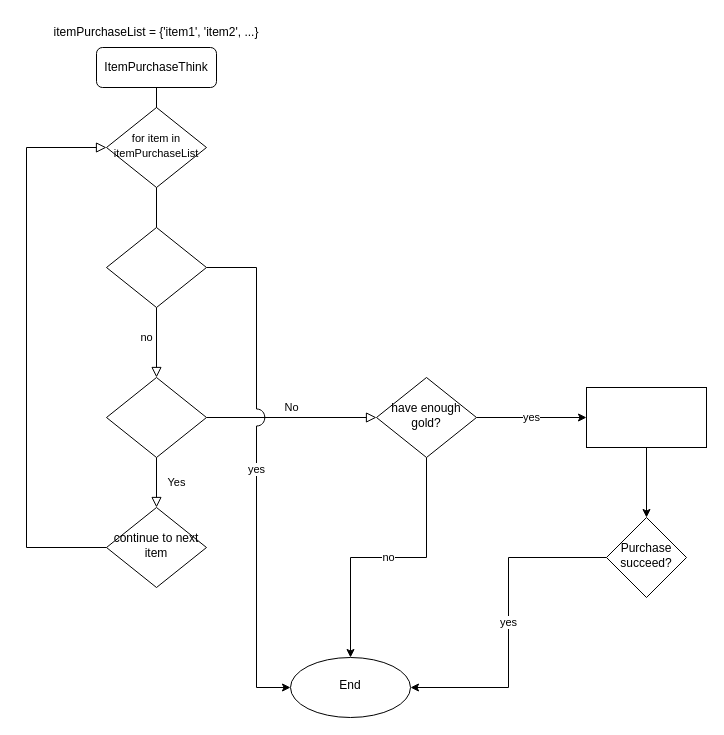
Some shapes in this 724 by 735 pixel diagram are drawn without their labels. The shapes that lost their labels are listed below. From the top down, each one's centre as x and y in pixels, then its label:
At point 156,267: "Is the loop over?".
At point 156,417: "already have the item?".
At point 646,417: "PuchaseItem".
